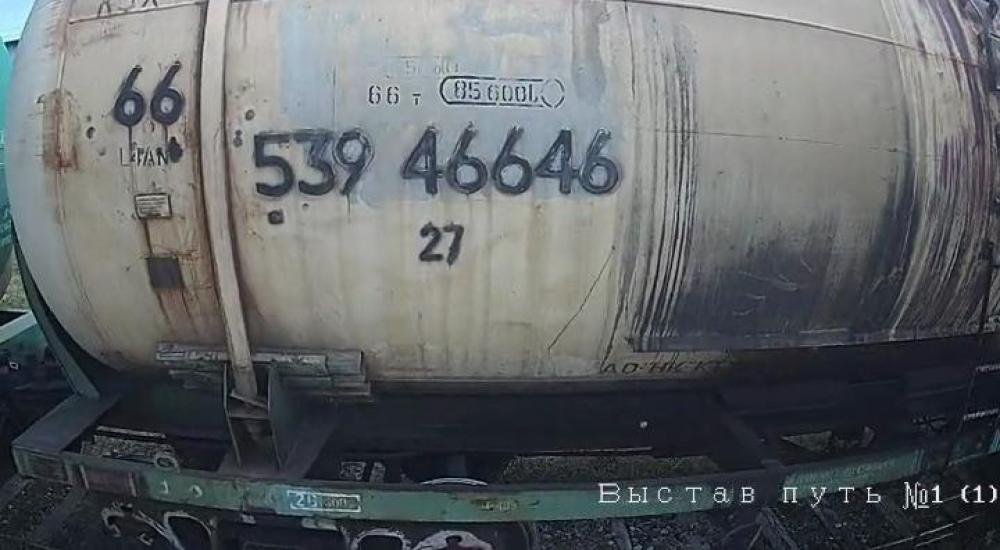Wagon-number: (249, 125, 628, 199)
